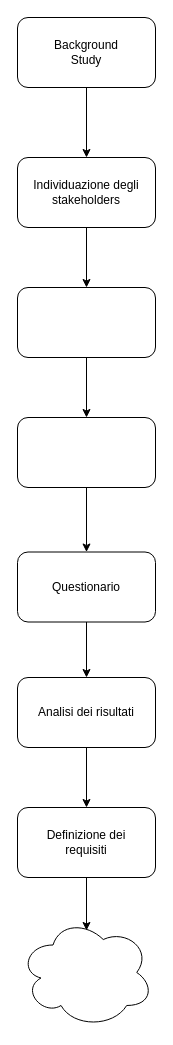
This 173x1045 diagram has some shape labels left out. The shapes that lost their labels are listed below. From the top down, each one's box as (x1, y1, x2, y2) in pixels, then its label:
(16, 286, 156, 358): Brainstorming
(16, 416, 156, 488): Realizzazione mockup
(18, 916, 154, 1028): Sviluppo futuro
